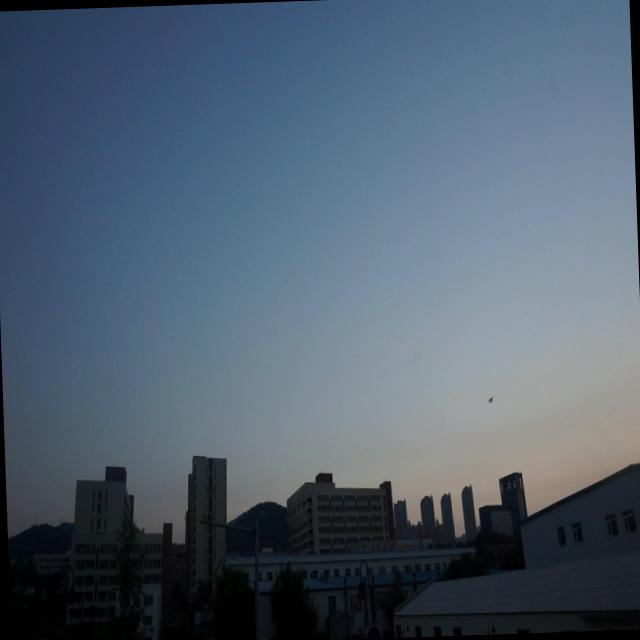drone: (486, 388, 494, 411)
